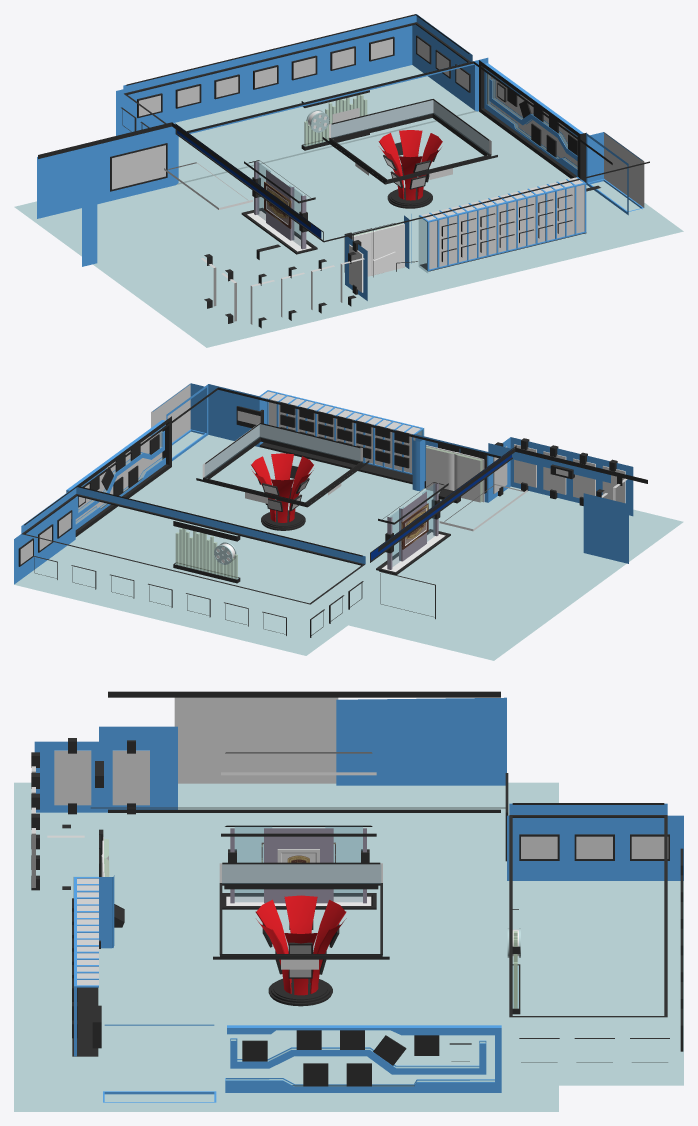
Rendered from Zhanting3.gltf.
The picture shows the model from 3 angles, top to bottom: view 1: azimuth 30°, elevation 25°; view 2: azimuth 150°, elevation 25°; view 3: azimuth 270°, elevation 25°; orthographic projection. The views are drawn at different scales.
Parts seen in each view (by area): view 1: YFCG_2687, YFCG_2666, YFCG_2695, YFCG_2669, YFCG_2667, YFCG_2732, YFCG_2701, YFCG_2672, YFCG_2702, YFCG_2744, YFCG_2688, YFCG_2673 (+20 smaller); view 2: YFCG_2687, YFCG_2695, YFCG_2670, YFCG_2667, YFCG_2711, YFCG_2724, YFCG_2669, YFCG_2701, YFCG_2700, YFCG_2702, YFCG_2744, YFCG_2688 (+25 smaller); view 3: YFCG_2687, YFCG_2695, YFCG_2666, YFCG_2745, YFCG_2674, YFCG_2667, YFCG_2670, YFCG_2688, YFCG_2744, YFCG_2702, YFCG_2680, YFCG_2700 (+20 smaller).
Boxes of the visible parts, bbox=[...] form: YFCG_2687: bbox=[14, 111, 683, 347]; YFCG_2666: bbox=[37, 24, 488, 266]; YFCG_2695: bbox=[173, 65, 476, 184]; YFCG_2669: bbox=[421, 177, 584, 269]; YFCG_2667: bbox=[38, 61, 649, 242]; YFCG_2732: bbox=[139, 38, 468, 116]; YFCG_2701: bbox=[123, 14, 472, 93]; YFCG_2672: bbox=[419, 176, 586, 271]; YFCG_2702: bbox=[329, 99, 491, 154]; YFCG_2744: bbox=[331, 100, 488, 153]; YFCG_2688: bbox=[378, 130, 442, 200]; YFCG_2673: bbox=[479, 60, 585, 182]; YFCG_2687: bbox=[75, 435, 683, 660]; YFCG_2695: bbox=[14, 539, 367, 655]; YFCG_2670: bbox=[415, 434, 633, 563]; YFCG_2667: bbox=[82, 387, 647, 562]; YFCG_2711: bbox=[152, 383, 267, 460]; YFCG_2724: bbox=[280, 402, 409, 468]; YFCG_2669: bbox=[261, 391, 421, 473]; YFCG_2701: bbox=[21, 486, 365, 564]; YFCG_2700: bbox=[21, 486, 364, 604]; YFCG_2702: bbox=[202, 423, 362, 477]; YFCG_2744: bbox=[205, 424, 360, 477]; YFCG_2688: bbox=[251, 453, 313, 522]; YFCG_2687: bbox=[14, 782, 558, 1111]; YFCG_2695: bbox=[507, 881, 683, 1085]; YFCG_2666: bbox=[336, 697, 683, 880]; YFCG_2745: bbox=[174, 697, 338, 783]; YFCG_2674: bbox=[225, 1025, 501, 1092]; YFCG_2667: bbox=[91, 691, 505, 959]; YFCG_2670: bbox=[34, 726, 177, 812]; YFCG_2688: bbox=[255, 895, 346, 995]; YFCG_2744: bbox=[222, 864, 380, 883]; YFCG_2702: bbox=[219, 863, 382, 882]; YFCG_2680: bbox=[230, 828, 366, 903]; YFCG_2700: bbox=[509, 803, 667, 1017].
Size of the model in its own units: 35.8 by 5.07 by 30.1.
Materials: 24 (2 with a texture image).
